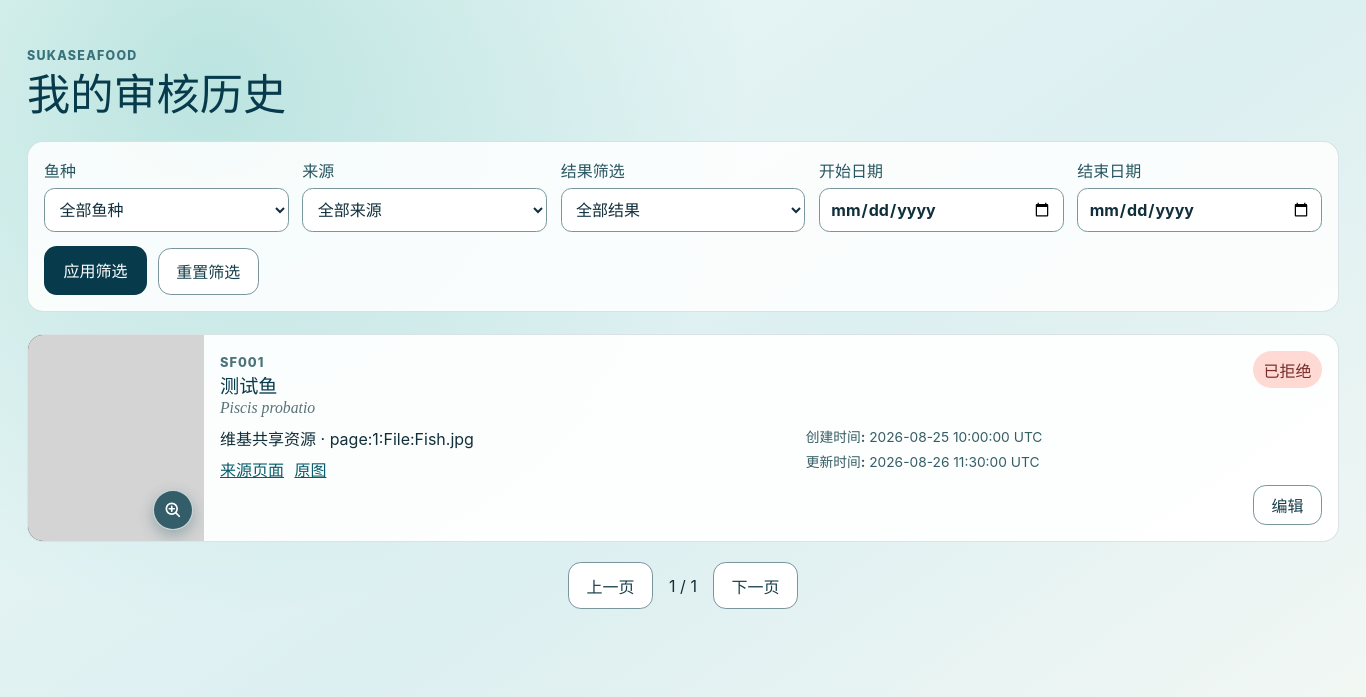
Test: HistoryPage links, privacy, and editing › keeps the draft and never claims success for a malformed success response
What coordinates should you click on to do the following:
click the button "编辑"
I would click on:
 (1287, 505)
Its box is x1=1253 y1=485 x2=1322 y2=525.
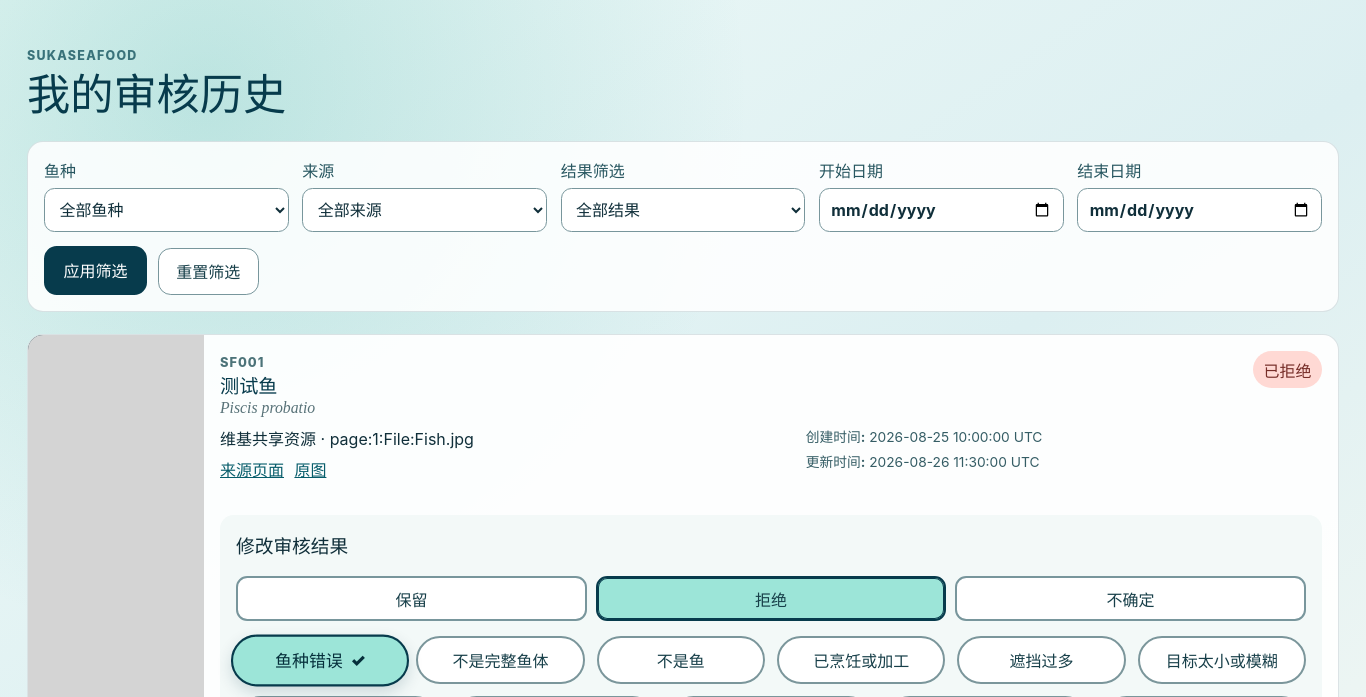
What coordinates should you click on to do the following:
click the button "不确定"
I would click on:
 (1131, 599)
Its box is x1=955 y1=576 x2=1306 y2=621.
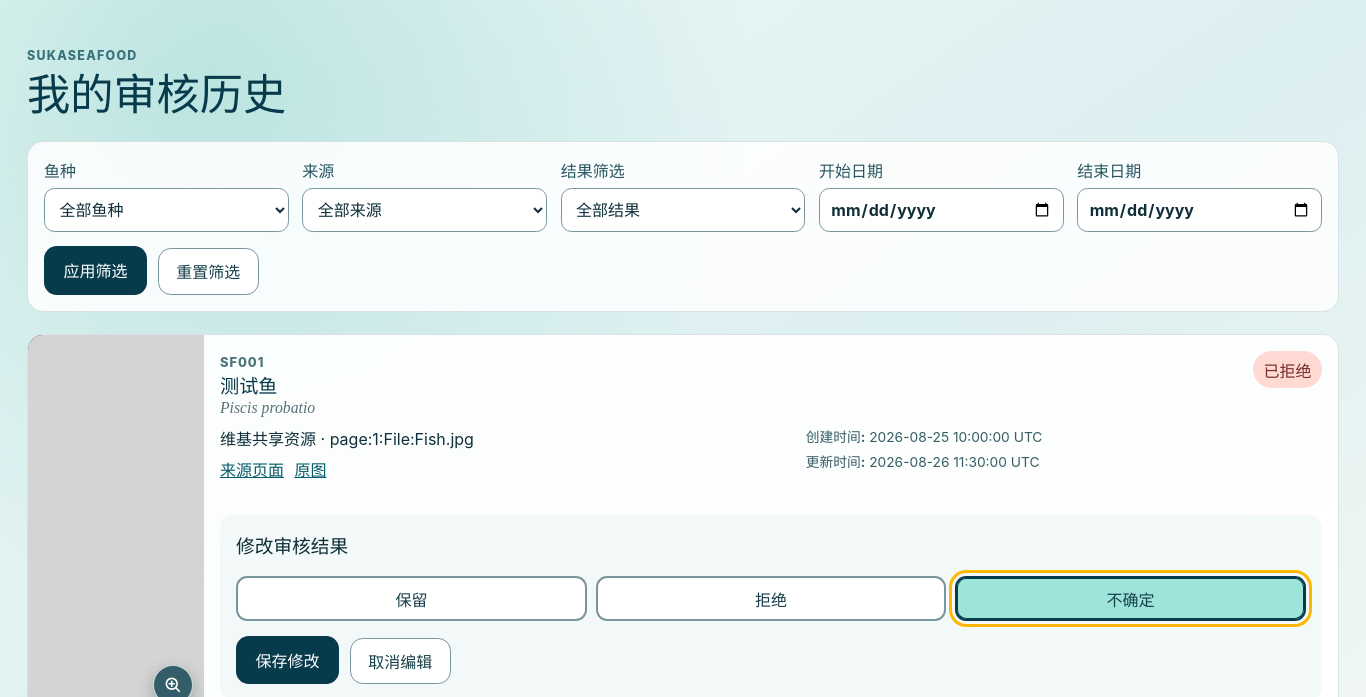
What coordinates should you click on to do the following:
click the button "保存修改"
I would click on:
 (288, 660)
Its box is x1=236 y1=636 x2=339 y2=684.
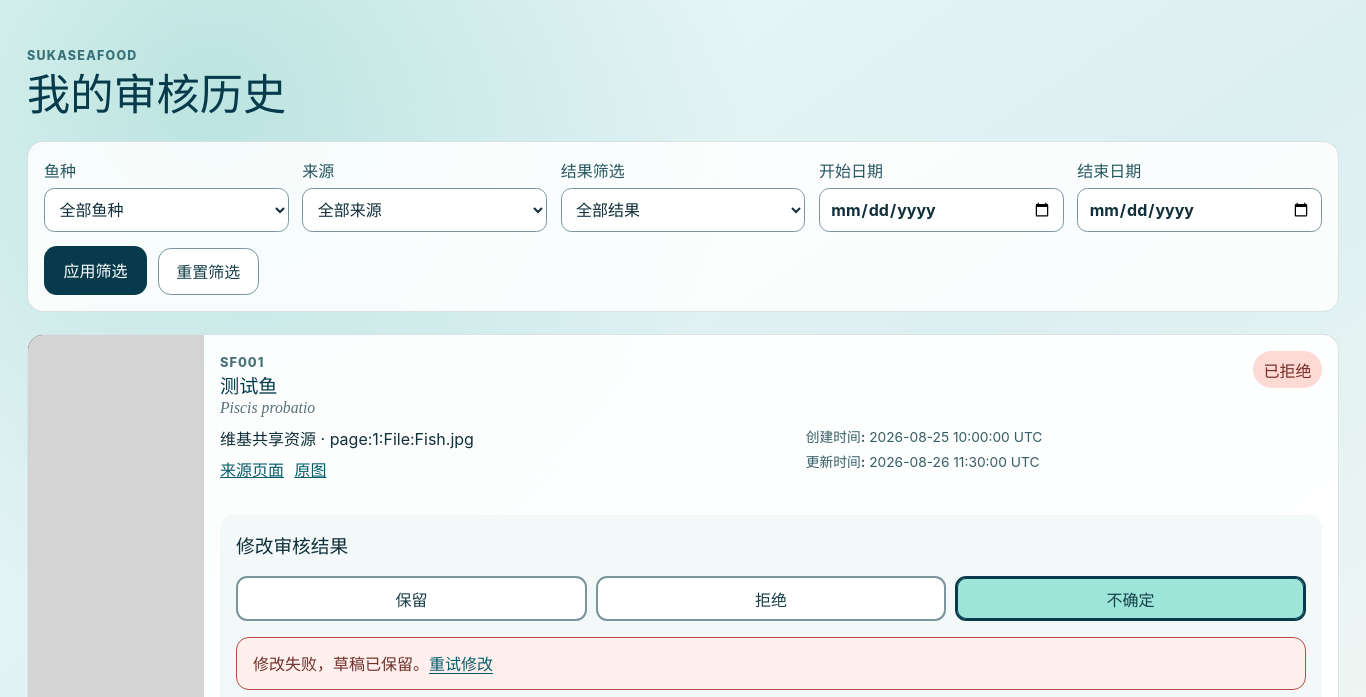
Now the message shows "修改失败", box x1=253 y1=654 x2=429 y2=674
